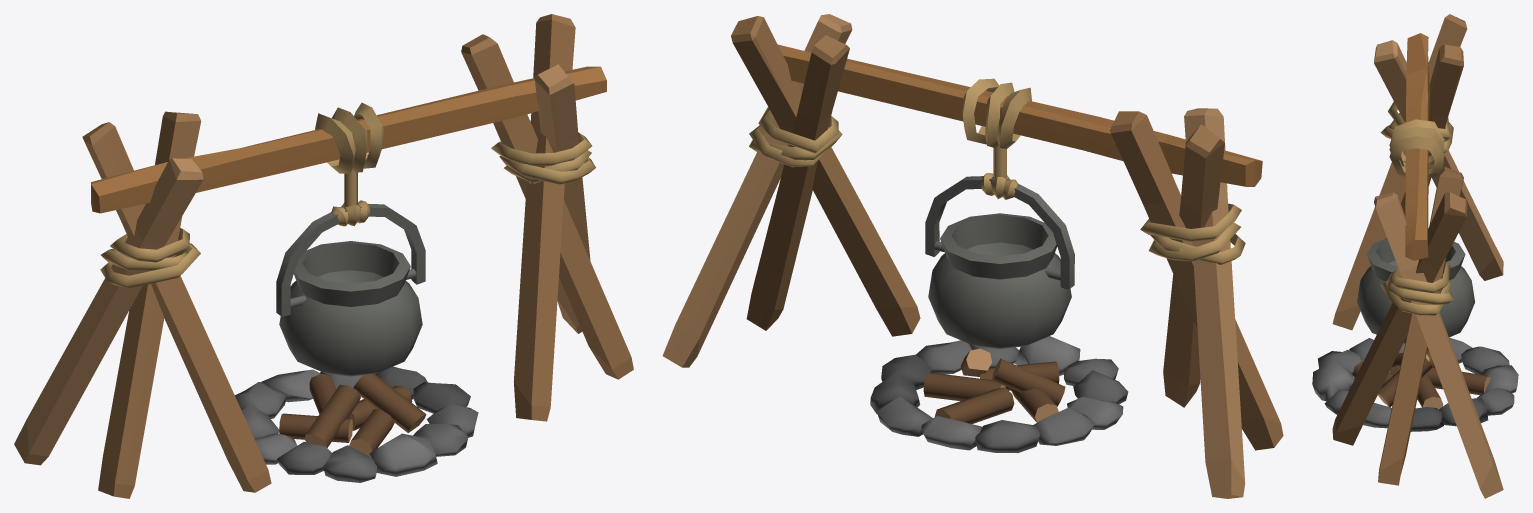
The model's file is Cook_B.fbx.
3 views of the same model, side by side, from view 1: azimuth 30°, elevation 25°; view 2: azimuth 150°, elevation 25°; view 3: azimuth 270°, elevation 25° (orthographic). The views are drawn at different scales.
Visible parts, largest first — view 1: Cook_B; view 2: Cook_B; view 3: Cook_B.
Boxes of the visible parts, x1,y1,x2,y2 form: Cook_B: (14, 14, 633, 498); Cook_B: (662, 14, 1283, 498); Cook_B: (1312, 14, 1518, 498).
Bounding box in the file's own units: 328 × 191 × 125.
